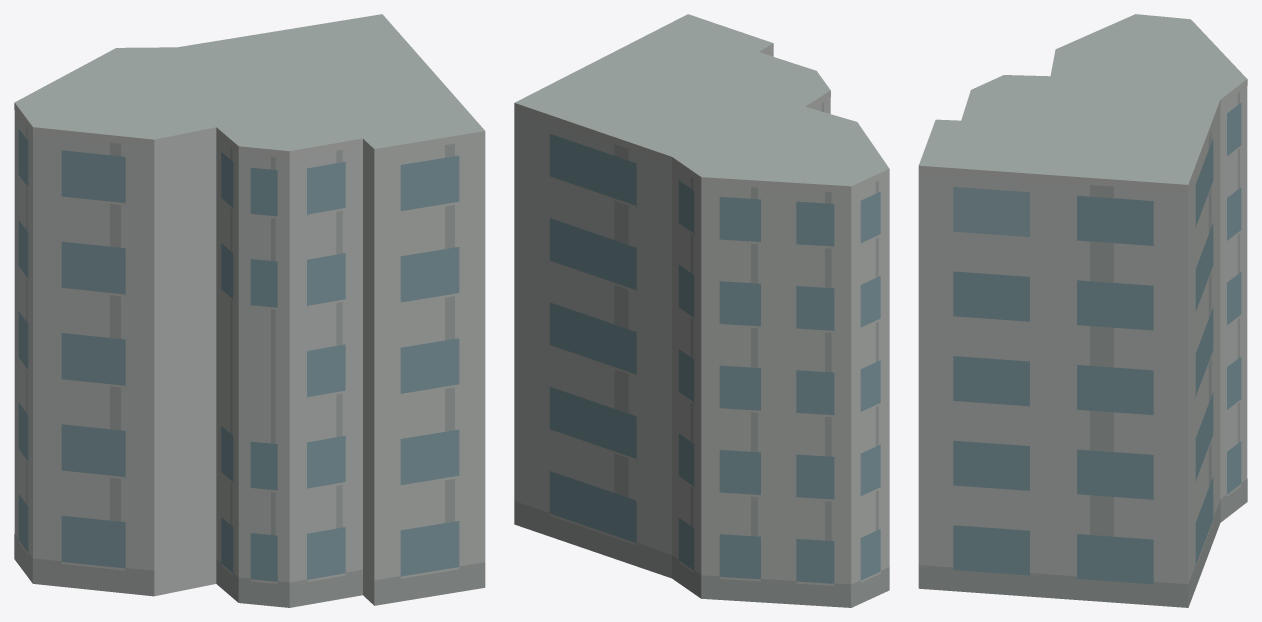
Rendered from survey-upis-32820534.glb.
3 views of the same model, side by side, from view 1: azimuth 30°, elevation 25°; view 2: azimuth 150°, elevation 25°; view 3: azimuth 270°, elevation 25° (orthographic). The views are drawn at different scales.
Parts seen in each view (by area): view 1: survey-upis-32820534.tmp; view 2: survey-upis-32820534.tmp; view 3: survey-upis-32820534.tmp.
Boxes of the visible parts, x1=… form: survey-upis-32820534.tmp: x1=14, y1=14, x2=485, y2=607; survey-upis-32820534.tmp: x1=514, y1=14, x2=889, y2=607; survey-upis-32820534.tmp: x1=918, y1=14, x2=1247, y2=607.
Bounding box in the file's own units: 12.61 × 14.55 × 10.26.
